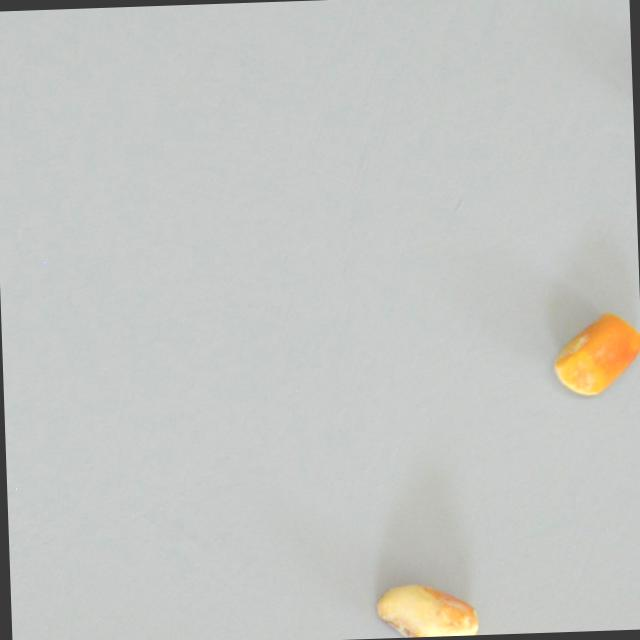dañado: (550, 310, 640, 400), (374, 577, 479, 638)
